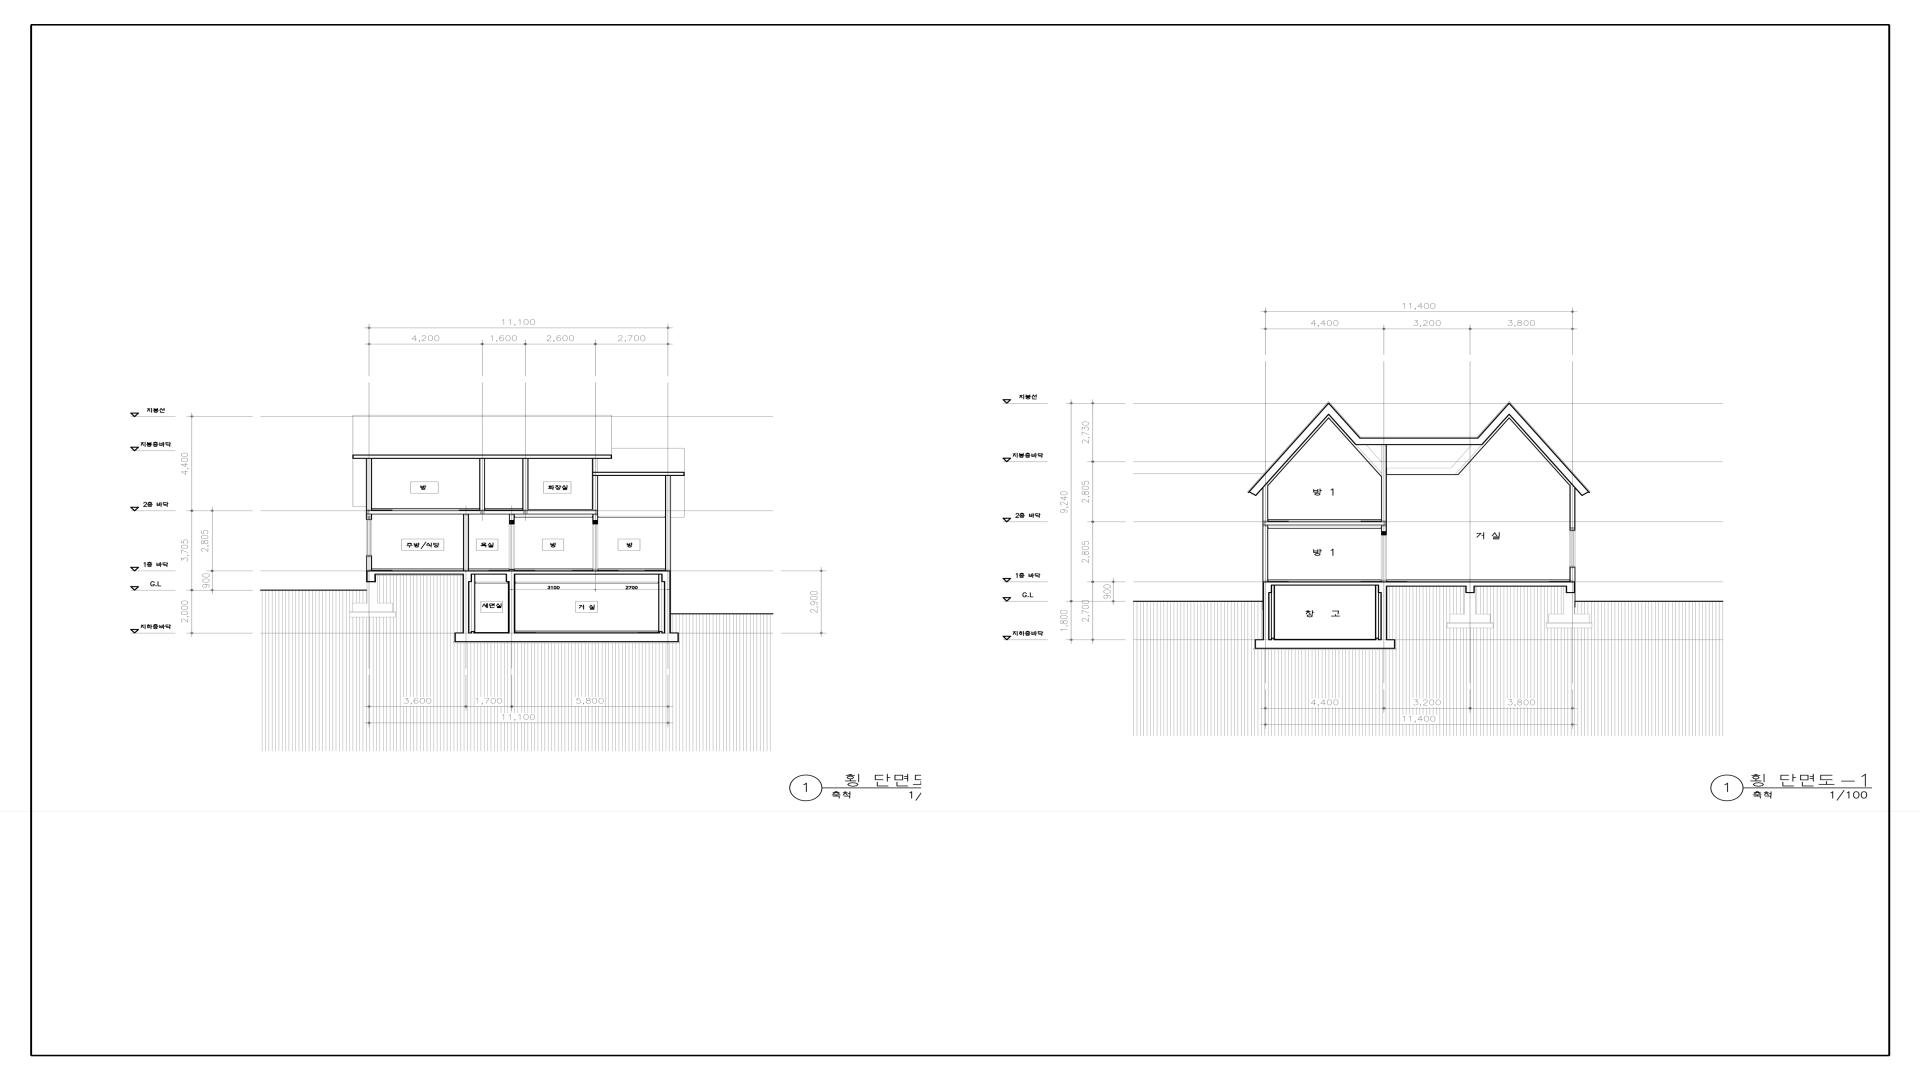door: (1381, 535, 1387, 580), (592, 525, 599, 570), (509, 525, 514, 570)
wall: (1249, 402, 1329, 496), (1510, 402, 1589, 496), (455, 633, 679, 642), (1477, 402, 1510, 446), (1329, 402, 1361, 446), (1254, 640, 1395, 649), (376, 571, 671, 575), (1378, 582, 1576, 587), (352, 455, 612, 459), (1356, 438, 1482, 446), (365, 510, 599, 514), (1451, 446, 1482, 475), (1357, 446, 1382, 473), (665, 476, 671, 571), (1381, 446, 1387, 522), (1262, 522, 1387, 526), (1262, 582, 1378, 585), (1387, 468, 1455, 475), (508, 582, 516, 633), (463, 514, 469, 571), (1262, 525, 1269, 582), (592, 472, 684, 476), (1262, 593, 1270, 640), (522, 459, 529, 510), (479, 459, 485, 510), (365, 459, 372, 510), (463, 583, 469, 633), (665, 583, 671, 633), (1548, 615, 1589, 622), (1569, 483, 1576, 531), (1451, 615, 1490, 622), (1381, 593, 1387, 640), (1262, 483, 1269, 522), (592, 476, 599, 510), (1465, 593, 1476, 615), (1564, 593, 1575, 615), (1447, 624, 1493, 628), (1547, 624, 1592, 628), (367, 571, 376, 583), (1569, 567, 1576, 582), (367, 555, 372, 571), (1262, 585, 1273, 593), (463, 575, 472, 583), (662, 575, 671, 583), (592, 459, 597, 472), (1381, 525, 1387, 535), (1565, 587, 1576, 593), (592, 514, 599, 525), (1378, 587, 1387, 593), (1465, 587, 1474, 593), (1447, 622, 1493, 624), (506, 575, 516, 582), (1547, 622, 1592, 624), (509, 514, 514, 524), (365, 514, 372, 520), (1381, 580, 1387, 582), (592, 570, 599, 571), (509, 570, 514, 571)
window: (1569, 531, 1576, 567), (367, 520, 372, 555)
